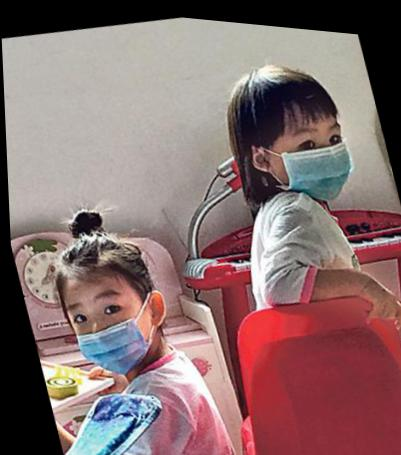OK: (267, 96, 359, 203)
WRONG: (55, 270, 151, 381)
